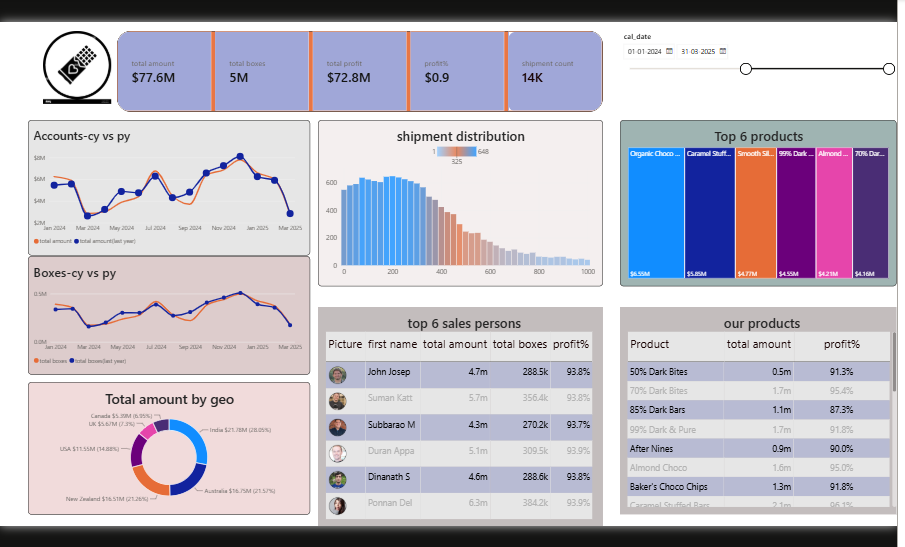

The dashboard page shown, as its layout file describes it:
{"tool":"powerbi","page":{"name":"bi report","canvas":[1920,1080],"ordinal":0},"visuals":[{"type":"lineChart","title":"Boxes-cy vs py","fields":{"Category":["calendar.cal_date.Variation.Date Hierarchy.Year","calendar.cal_date.Variation.Date Hierarchy.Month"],"Y":["shipments.total boxes","shipments.total boxes(last year)"]},"box":[60,500,604,254],"z":1},{"type":"lineChart","title":"Accounts-cy vs py","fields":{"Category":["calendar.cal_date.Variation.Date Hierarchy.Year","calendar.cal_date.Variation.Date Hierarchy.Month"],"Y":["shipments.total amount","shipments.total amount(last year)"]},"box":[60,210,604,290],"z":2},{"type":"donutChart","title":"Total amount by geo","fields":{"Category":["locations.Geo"],"Y":["shipments.total amount"]},"box":[60,770,604,284],"z":3},{"type":"clusteredColumnChart","title":"shipment distribution","fields":{"Category":["shipments.Boxes (bins)"],"Y":["shipments.shipment count"]},"box":[680,210,610,356],"z":4},{"type":"tableEx","title":"top 6 sales persons","fields":{"Values":["people.Picture","people.first name","shipments.total amount","shipments.total boxes","shipments.profit%"]},"box":[680,610,610,470],"z":5},{"type":"treemap","title":"Top 6 products","fields":{"Group":["products.Product"],"Values":["shipments.total amount"]},"box":[1328,210,592,356],"z":7},{"type":"tableEx","title":"our products","fields":{"Values":["products.Product","shipments.total amount","shipments.profit%"]},"box":[1328,610,592,444],"z":8},{"type":"image","box":[76,20,176,156],"z":9},{"type":"cardVisual","fields":{"Data":["shipments.total amount","shipments.total boxes","shipments.total profit","shipments.profit%","shipments.shipment count"]},"box":[250,20,1040,172.5],"z":10},{"type":"slicer","fields":{"Values":["calendar.cal_date"]},"box":[1328,20,592,173],"z":11}]}

Visuals, with their boxes in screenshot pixels (x1, y1, x2, y2):
"Boxes-cy vs py" lineChart: rect(28, 254, 309, 372)
"Accounts-cy vs py" lineChart: rect(28, 119, 309, 254)
"Total amount by geo" donutChart: rect(28, 379, 309, 511)
"shipment distribution" clusteredColumnChart: rect(316, 119, 600, 284)
"top 6 sales persons" tableEx: rect(316, 305, 600, 523)
"Top 6 products" treemap: rect(617, 119, 892, 284)
"our products" tableEx: rect(617, 305, 892, 511)
image: rect(35, 31, 117, 103)
cardVisual - shipments.total amount x shipments.total boxes: rect(116, 31, 600, 111)
slicer - calendar.cal_date: rect(617, 31, 892, 111)
